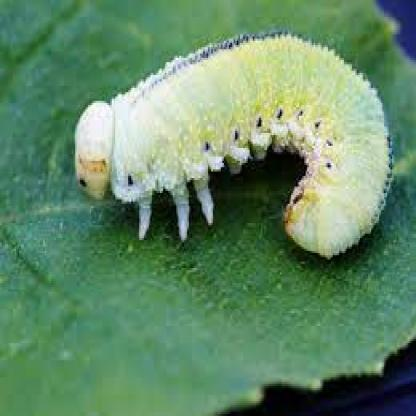sawfly: (68, 31, 398, 266)
